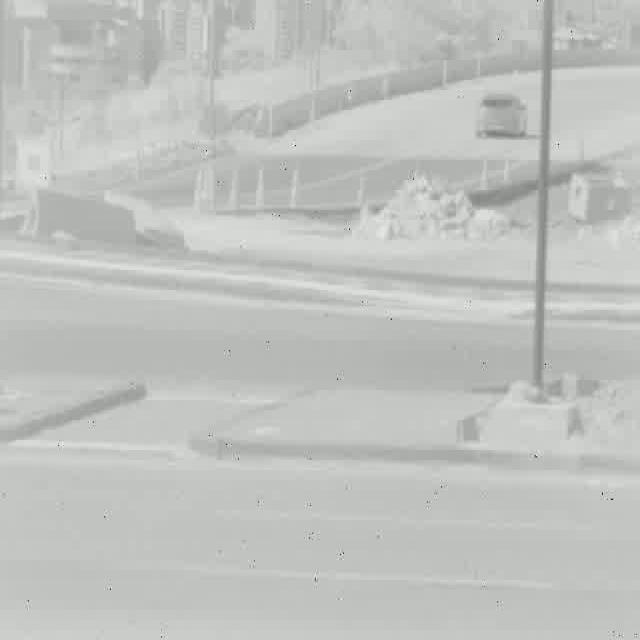Car: (477, 96, 528, 136)
